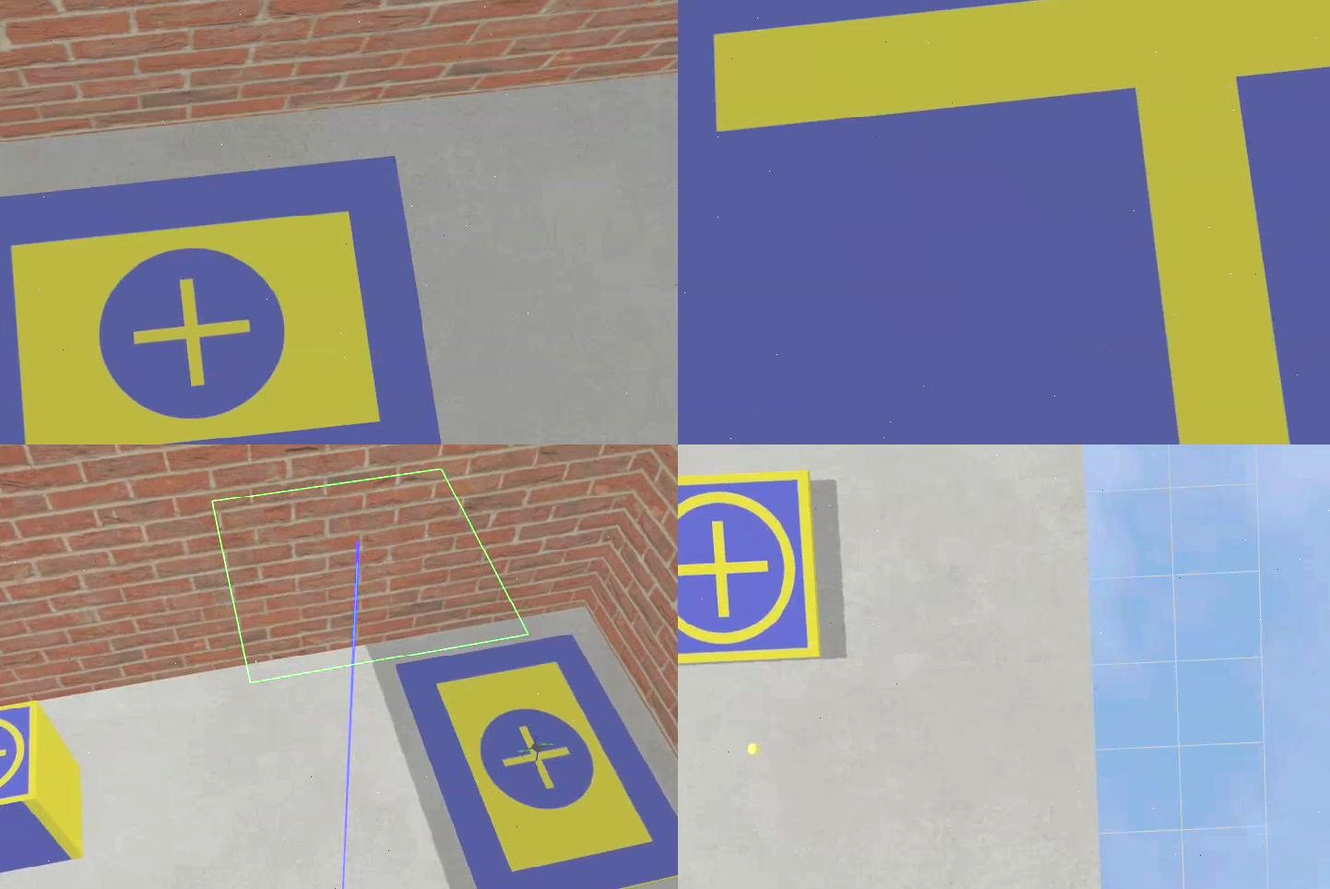large_base: (1, 158, 447, 445), (394, 631, 678, 889)
small_base: (678, 1, 1330, 445), (678, 468, 826, 671), (1, 702, 39, 824)
